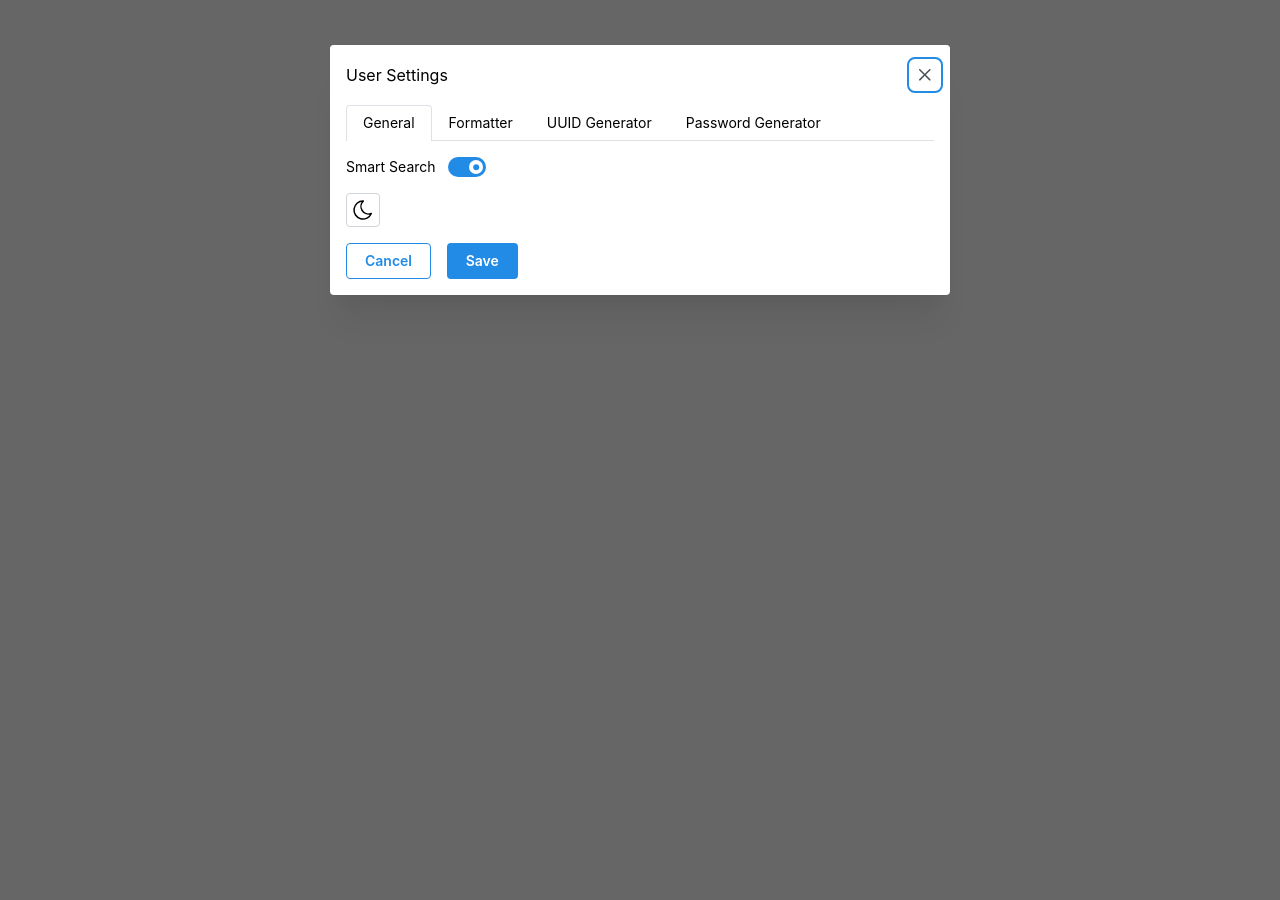
Scenario: UserSettingsModal › switches tabs correctly
Click the tab "Formatter". click: (481, 123)
box: [432,105,530,141]
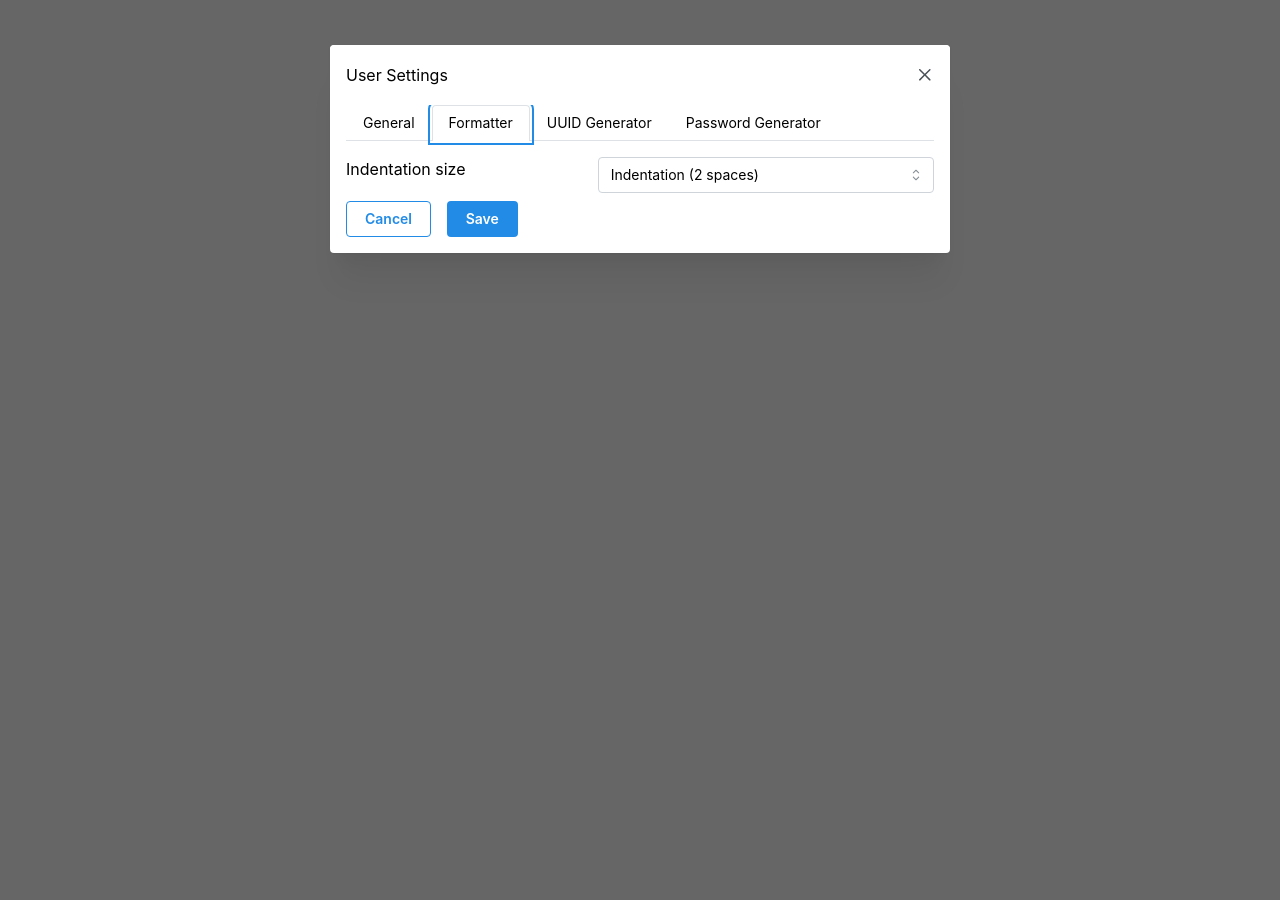
Expected: the text "Indentation size" is shown, [346,159,466,179]
Click the tab "UUID Generator". click: (599, 123)
box: [530,105,669,141]
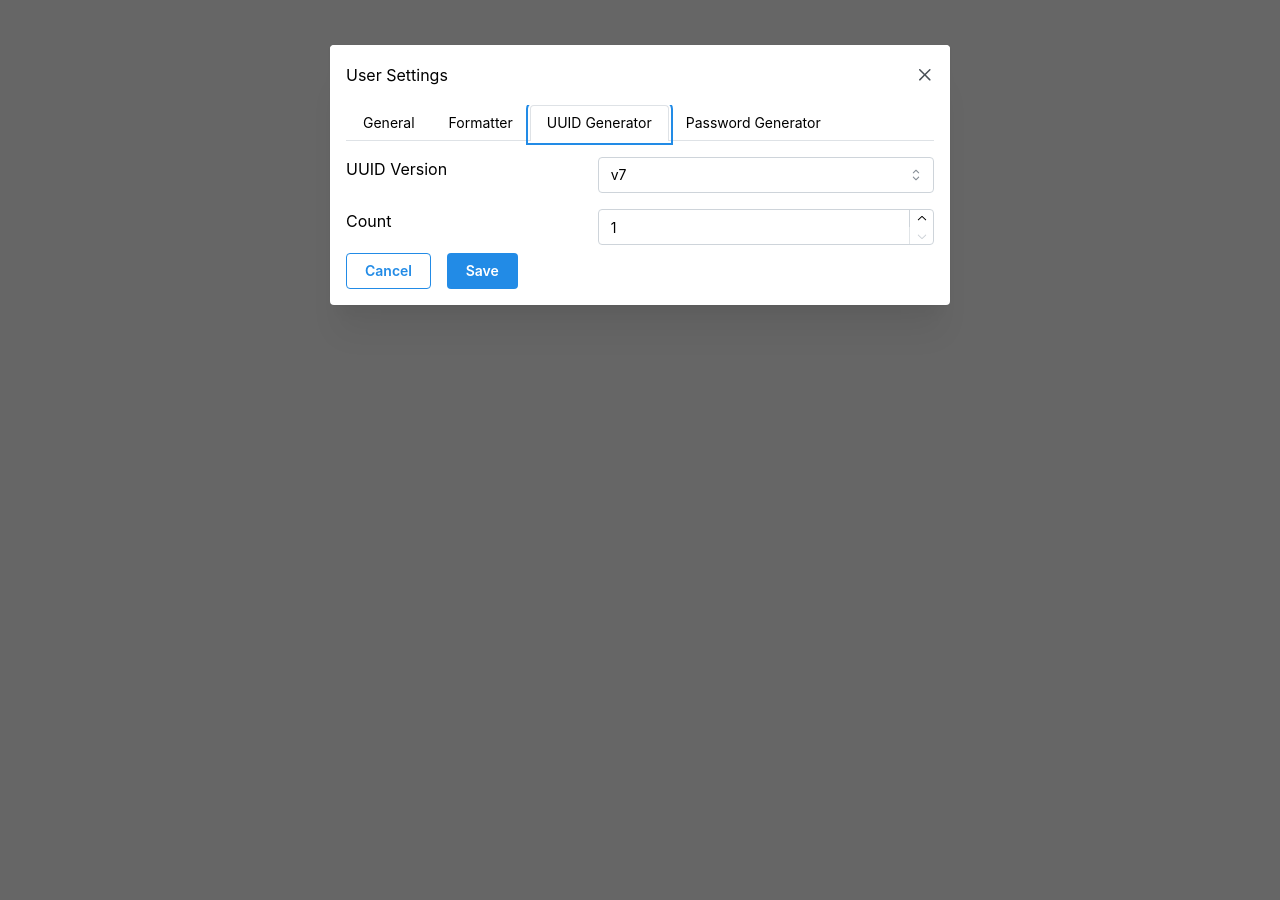
Expected: the text "UUID Version" is shown, [346,159,447,179]
Click the tab "Password Generator". click: (753, 123)
box: [669,105,838,141]
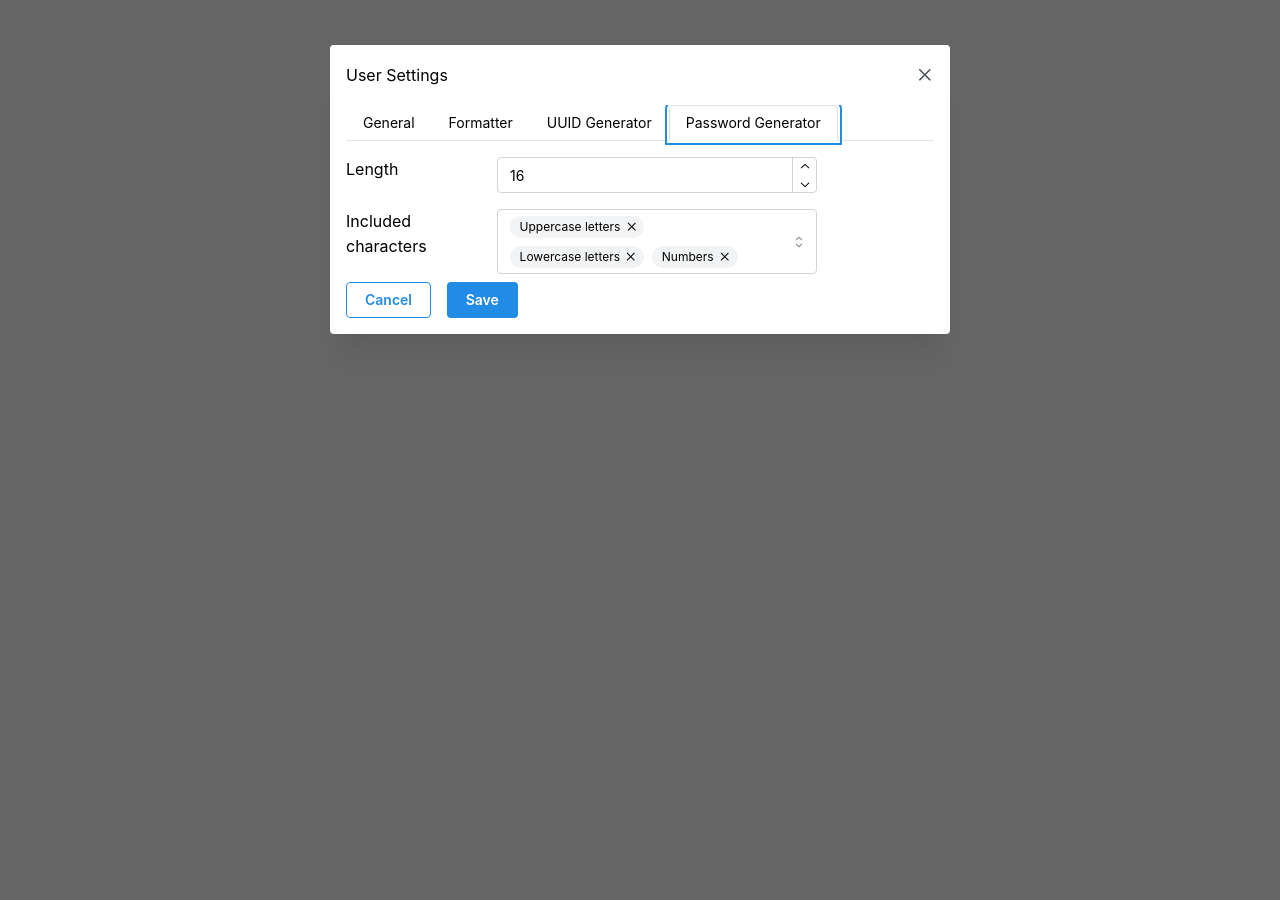
Expected: the text "Included characters" is shown, [346,211,427,256]
